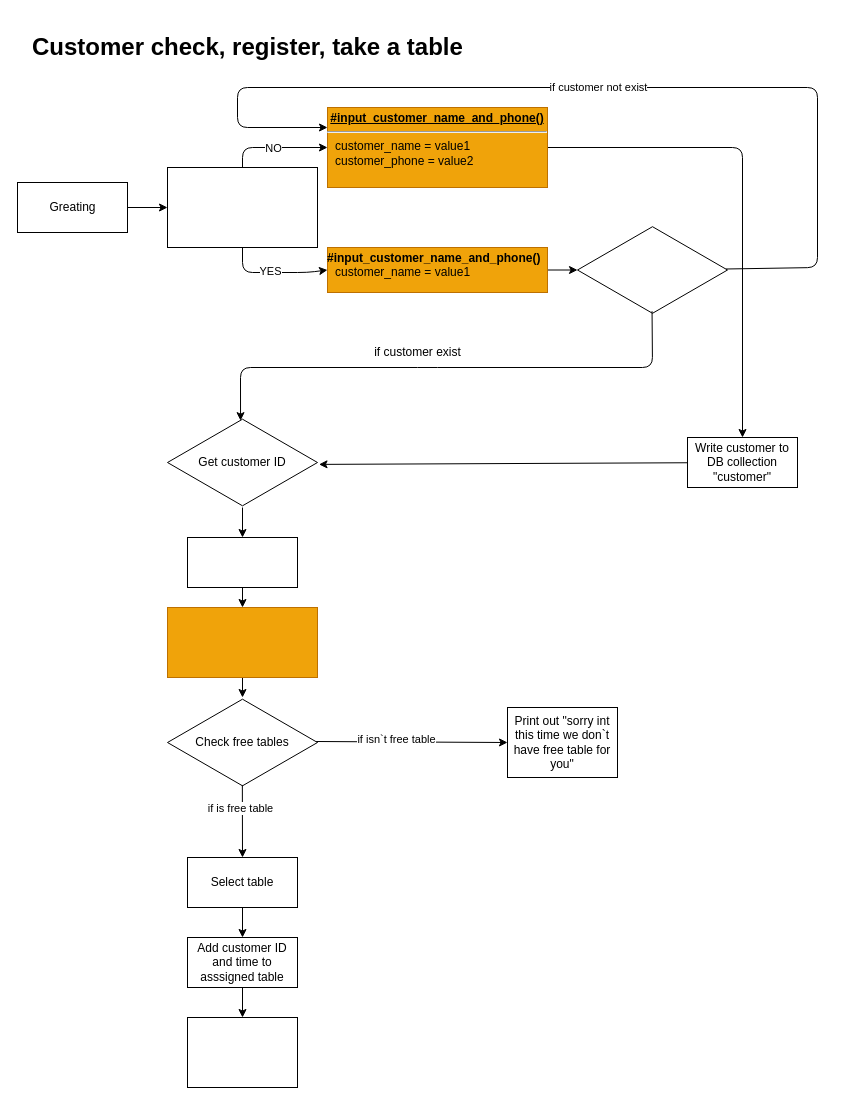
Some shapes in this 843 by 1105 pixel diagram are drawn without their labels. Here are the shapes that lost their labels. From the top down, the centre of each, then its label:
At [242,207]: "Method: choose ask, if was reservation before reserved_before = value1".
At [652,269]: "Check customer in DB".
At [242,562]: "Ask reservation time".
At [242,642]: "Method: input reservation_time = value1 customer_qnty = value2".
At [242,1052]: "Print out customer name, assigned table, reservation time".
